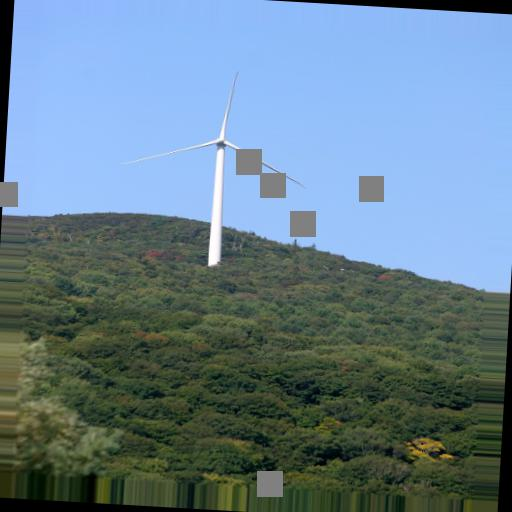wind turbine: (125, 70, 307, 271)
